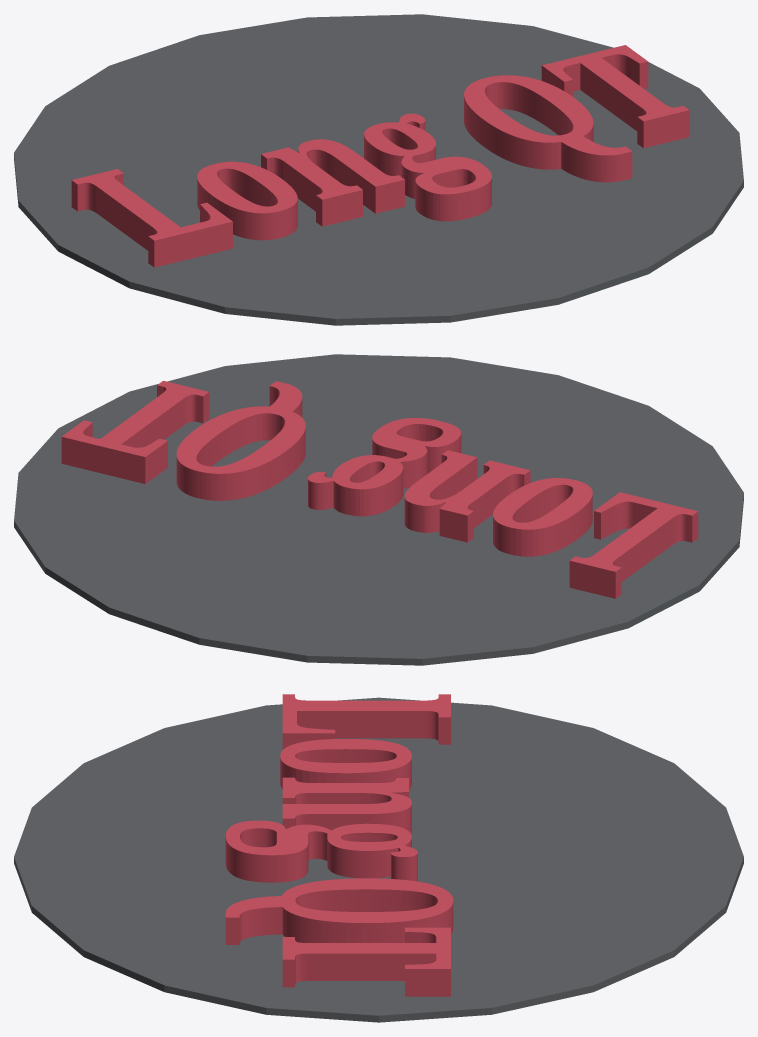
The picture shows the model from 3 angles, top to bottom: view 1: azimuth 30°, elevation 25°; view 2: azimuth 150°, elevation 25°; view 3: azimuth 270°, elevation 25°; orthographic projection.
Visible parts, largest first — view 1: Mesh_Mesh_head_geo001_lambert2SG001; view 2: Mesh_Mesh_head_geo001_lambert2SG001; view 3: Mesh_Mesh_head_geo001_lambert2SG001.
Part boxes in pixels (<box>): Mesh_Mesh_head_geo001_lambert2SG001: <box>14,14,743,325</box>; Mesh_Mesh_head_geo001_lambert2SG001: <box>14,354,743,665</box>; Mesh_Mesh_head_geo001_lambert2SG001: <box>14,694,743,1022</box>.
Size of the model in its own units: 199 by 10 by 193.
